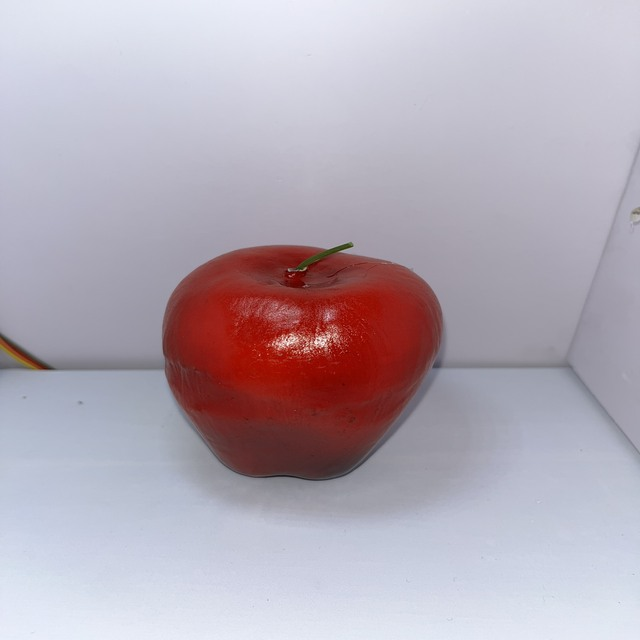Tao: (156, 231, 453, 486)
